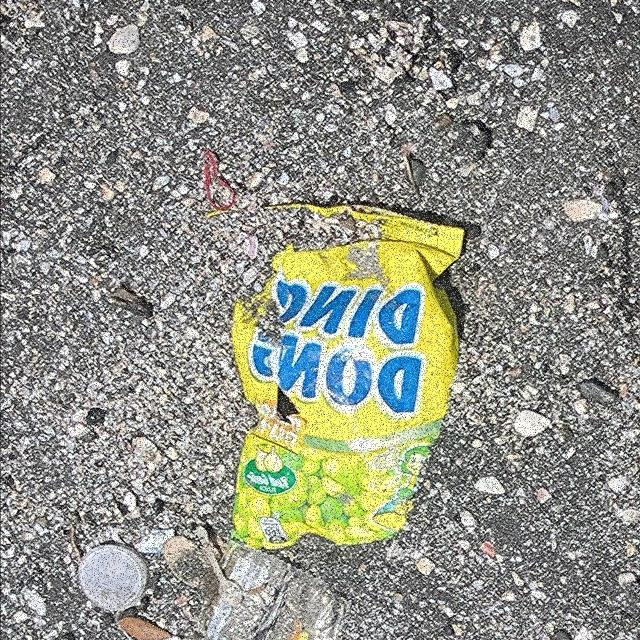plastic_waste: (203, 202, 469, 552), (78, 543, 151, 613)
